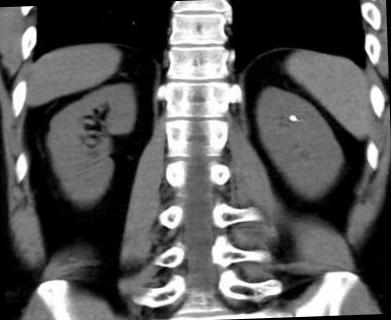Tas_Var: (285, 110, 300, 126)
